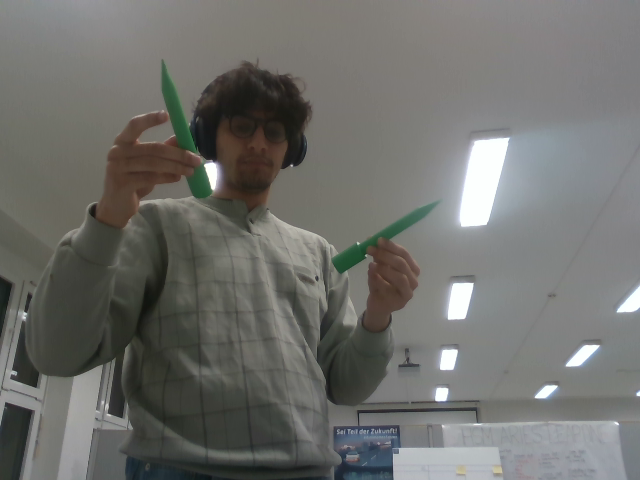Probe: (329, 195, 443, 276), (158, 54, 215, 200)
